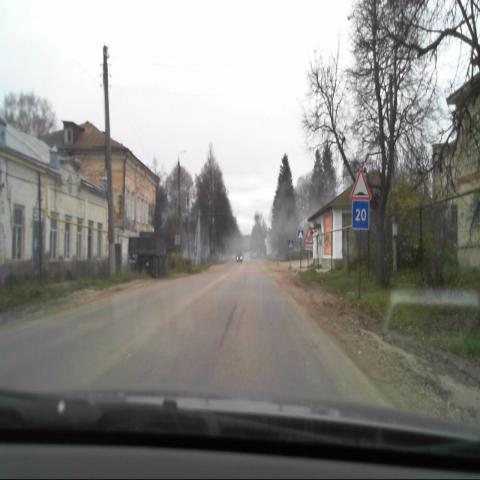1_17: (351, 166, 371, 196)
6_2: (351, 199, 369, 229)
